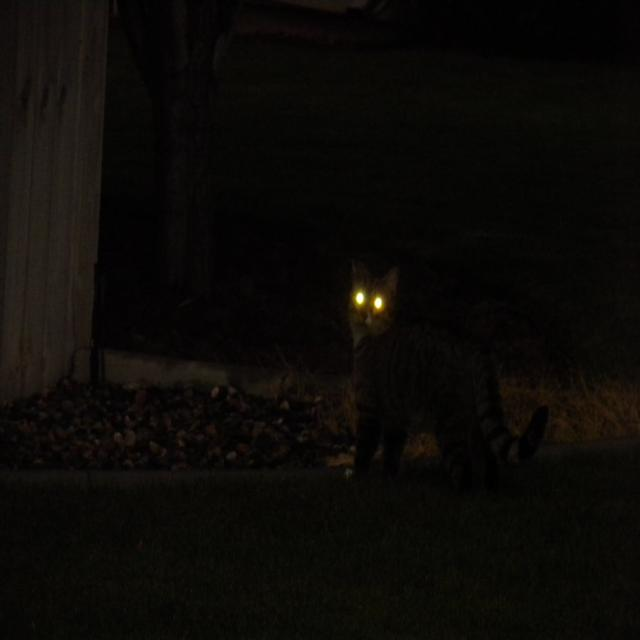Cat: (335, 241, 552, 510)
